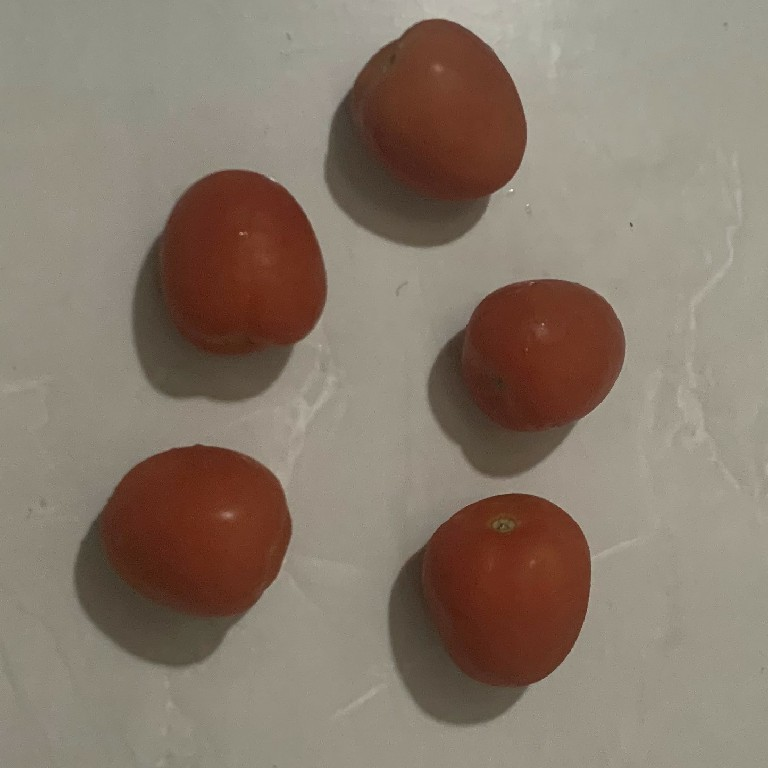OK: (93, 438, 297, 620), (418, 488, 595, 692), (151, 164, 329, 366), (350, 12, 531, 205), (460, 272, 629, 430)
